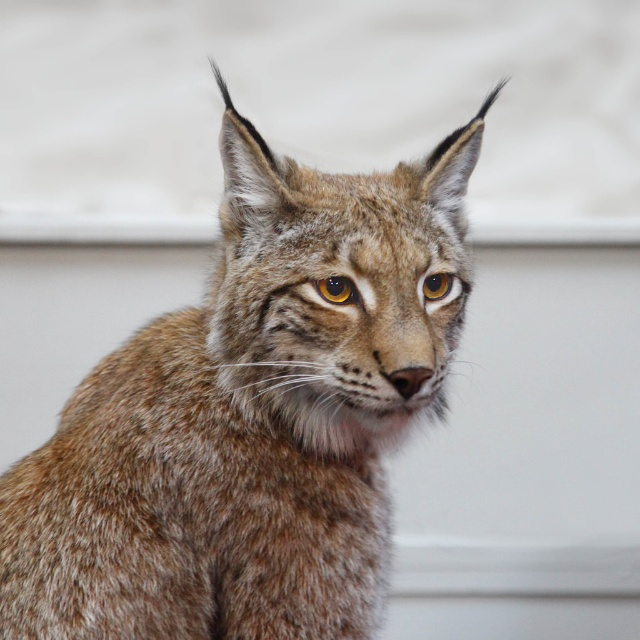Lynx: (1, 51, 510, 638)
